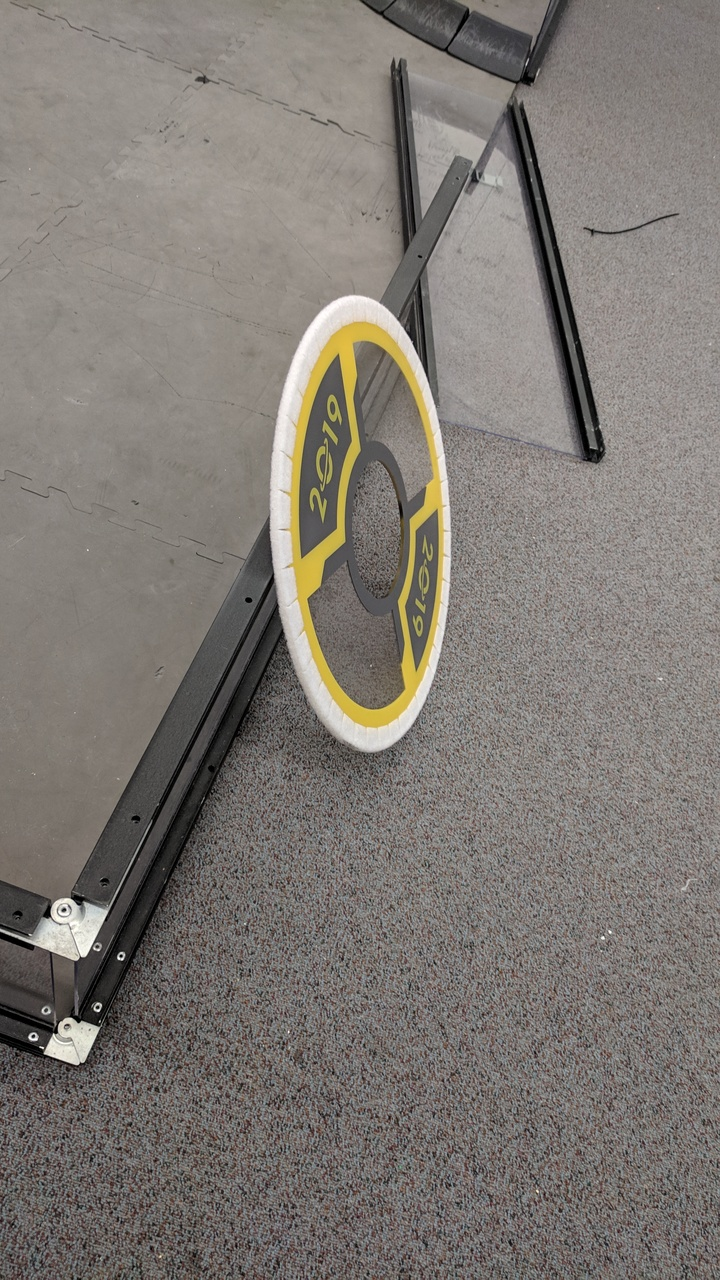hatch_panel: (252, 291, 463, 766)
